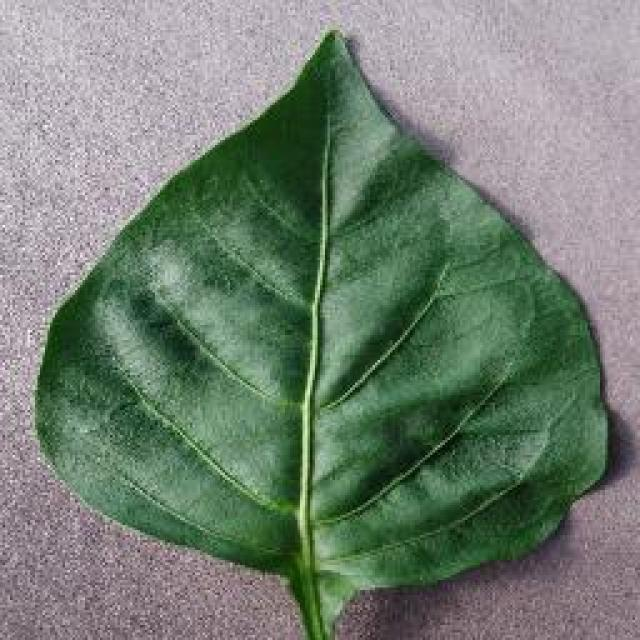Chilli_Healthy: (30, 25, 612, 637)
